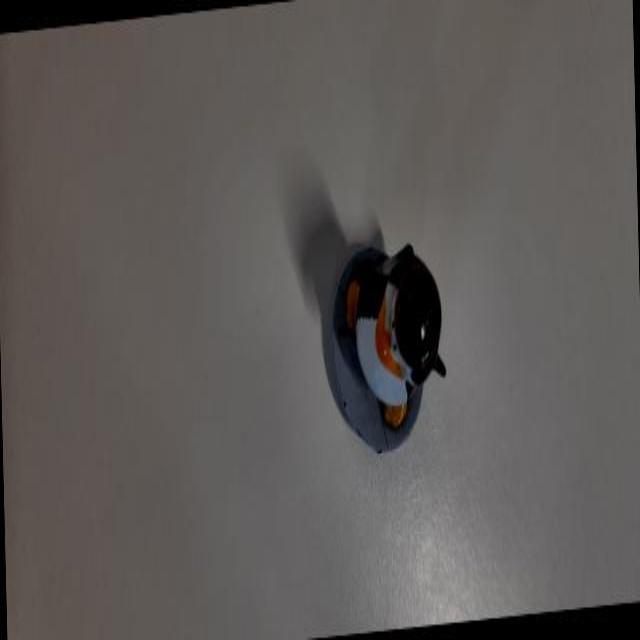Penguin: (315, 215, 455, 490)
